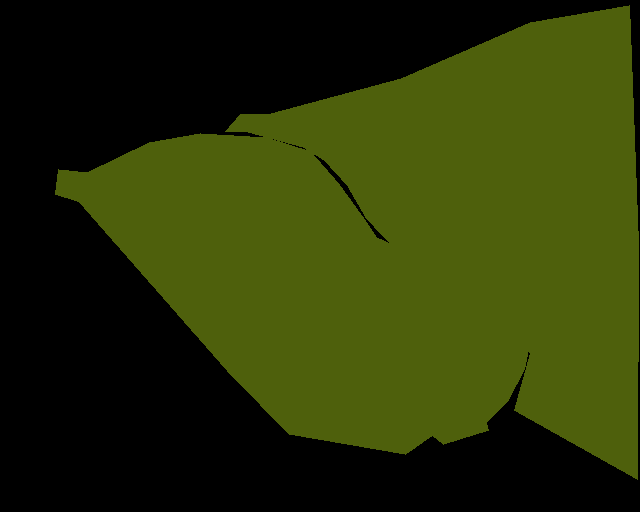Train: (225, 5, 639, 480), (55, 133, 529, 455)
